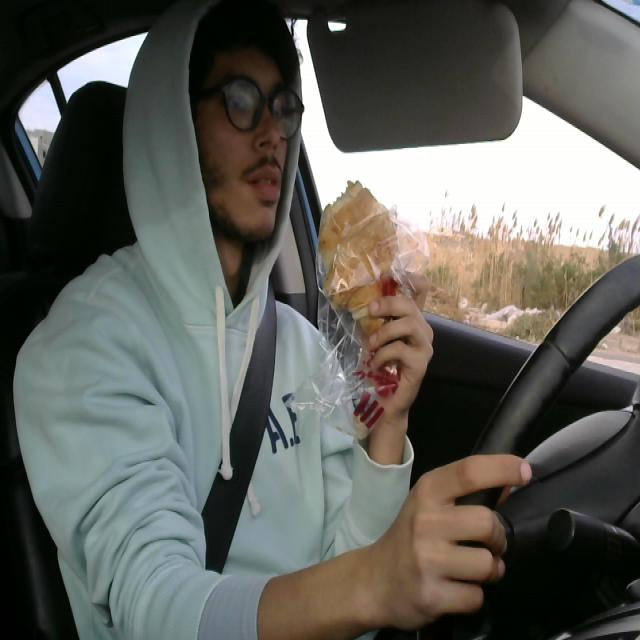eating: (309, 171, 402, 350)
